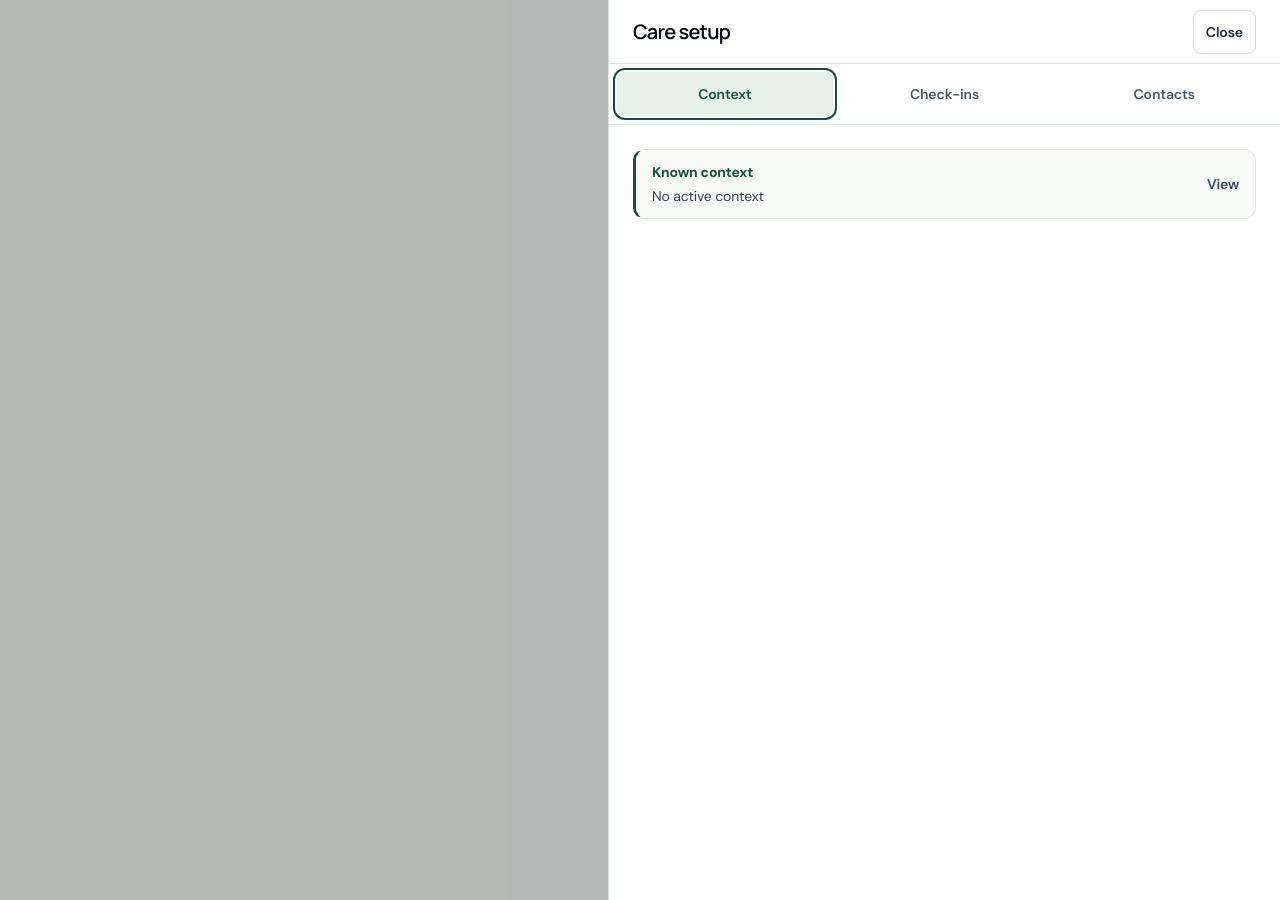
it: care setup drawer › provides labelled tabs for context, check-ins, and contacts
Click the tab "Contacts": (1164, 94) top-left (1056, 72), bottom-right (1272, 116)
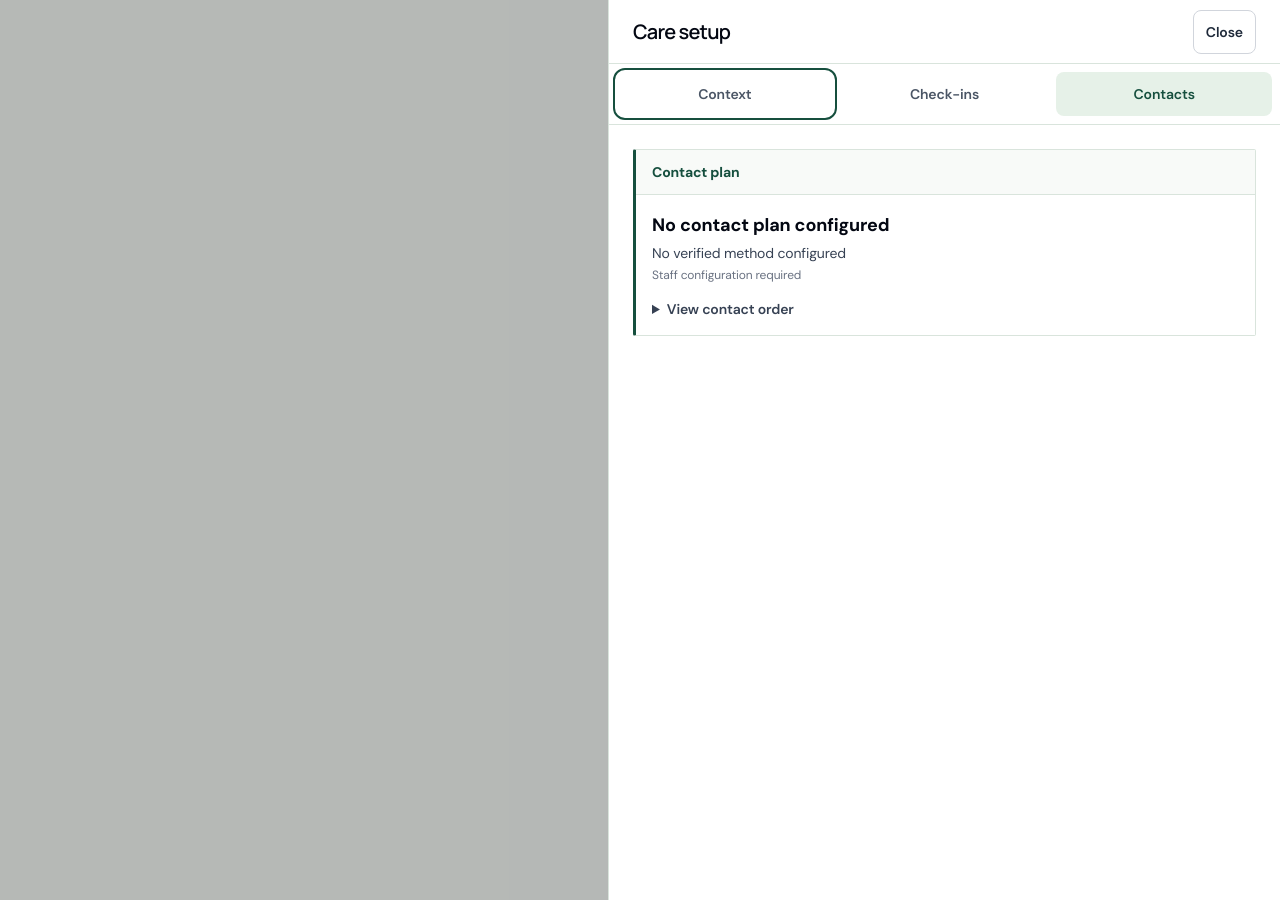
Result: the panel shows "No contact plan configured" at top-left (652, 213), bottom-right (889, 237)
